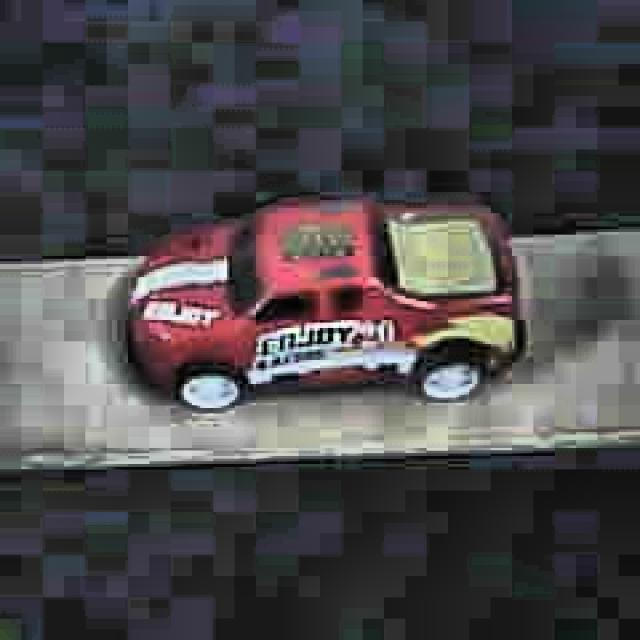car: (124, 192, 526, 414)
